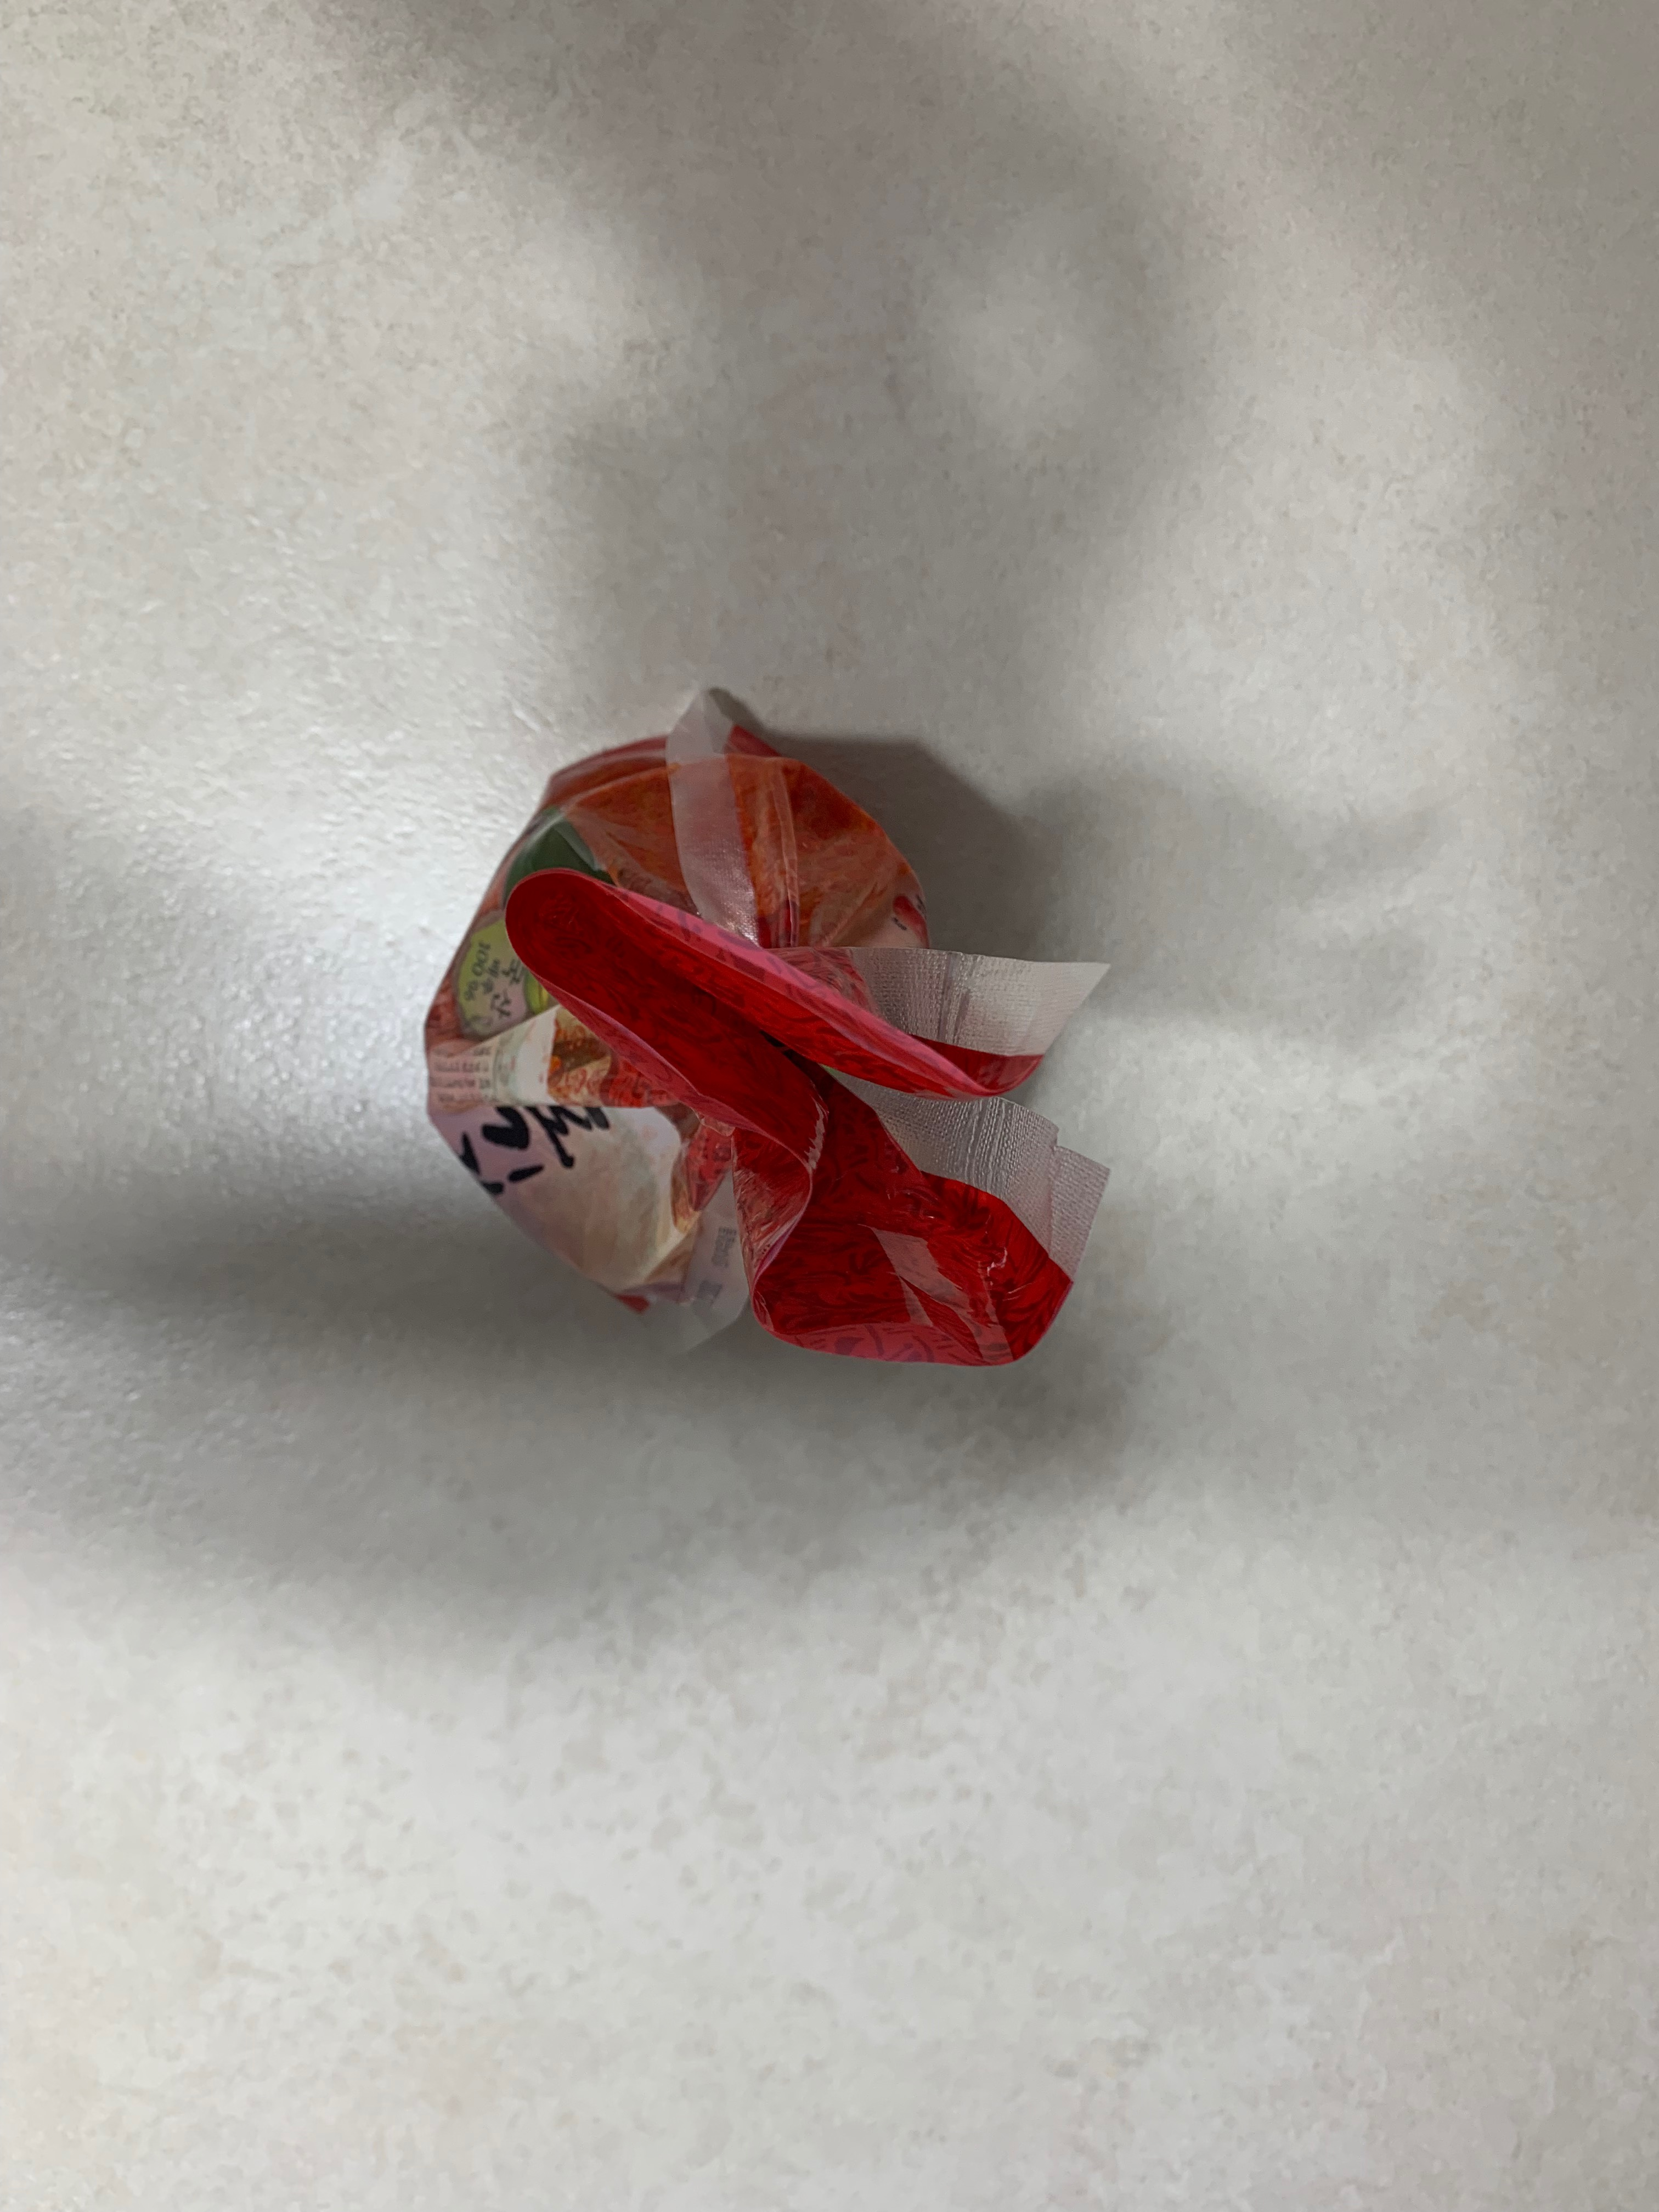kimchi: (427, 735, 1073, 1369)
